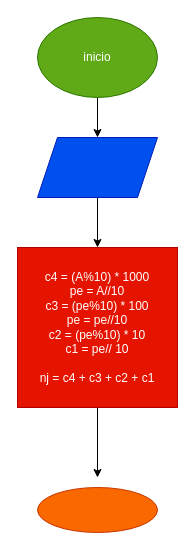
The diagram is 195 pixels wide and 550 high, and some of its shapes have lost their labels. Here are the shapes that lost their labels. From the top down, the centre of each, then its label:
At point 97,167: "A=1234".
At point 97,509: "fin".
